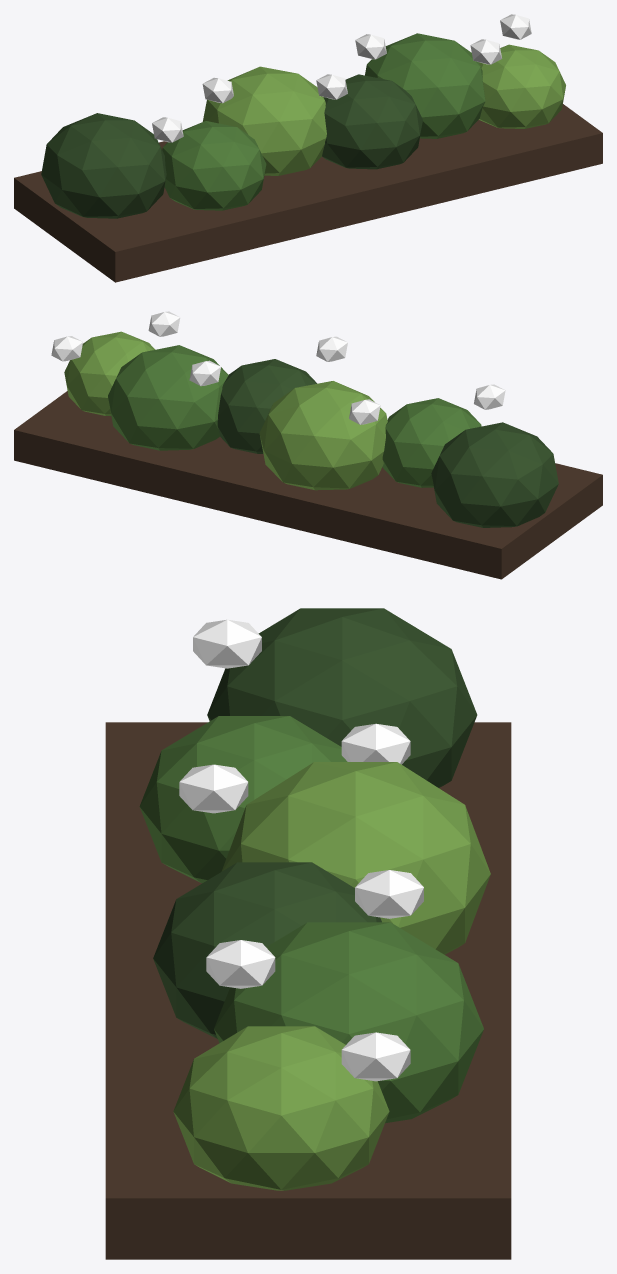
The model's file is border.glb.
3 views of the same model, one above another, from view 1: azimuth 30°, elevation 25°; view 2: azimuth 150°, elevation 25°; view 3: azimuth 270°, elevation 25° (orthographic). The views are drawn at different scales.
Visible parts, largest first — view 1: border; view 2: border; view 3: border.
Boxes of the visible parts, x1=… form: border: x1=14, y1=14, x2=602, y2=282; border: x1=14, y1=311, x2=602, y2=579; border: x1=105, y1=608, x2=511, y2=1259.
Bounding box in the file's own units: 2.02 × 0.504 × 0.72.
